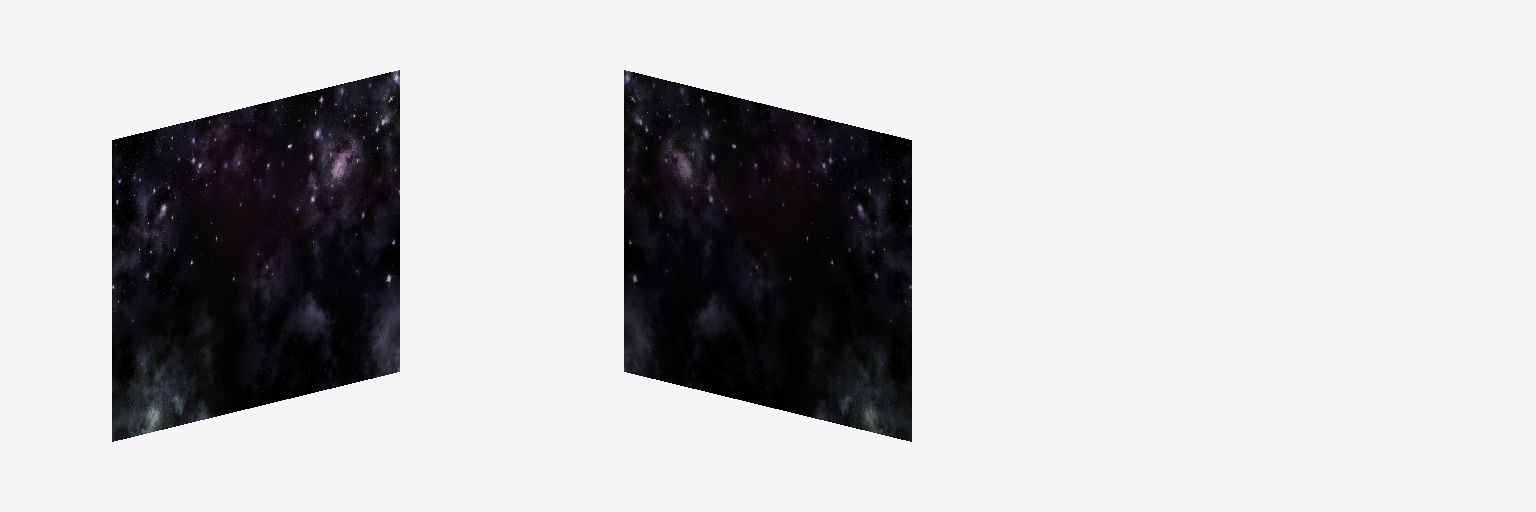
The picture shows the model from 3 angles: view 1: azimuth 30°, elevation 25°; view 2: azimuth 150°, elevation 25°; view 3: azimuth 270°, elevation 25°; orthographic projection.
Parts seen in each view (by area): view 1: default; view 2: default; view 3: none.
Boxes of the visible parts, x1,y1,x2,y2 form: default: [112, 70, 399, 441]; default: [624, 70, 911, 441].
Size of the model in its own units: 1 by 1 by 0.
Materials: 1 (1 with a texture image).